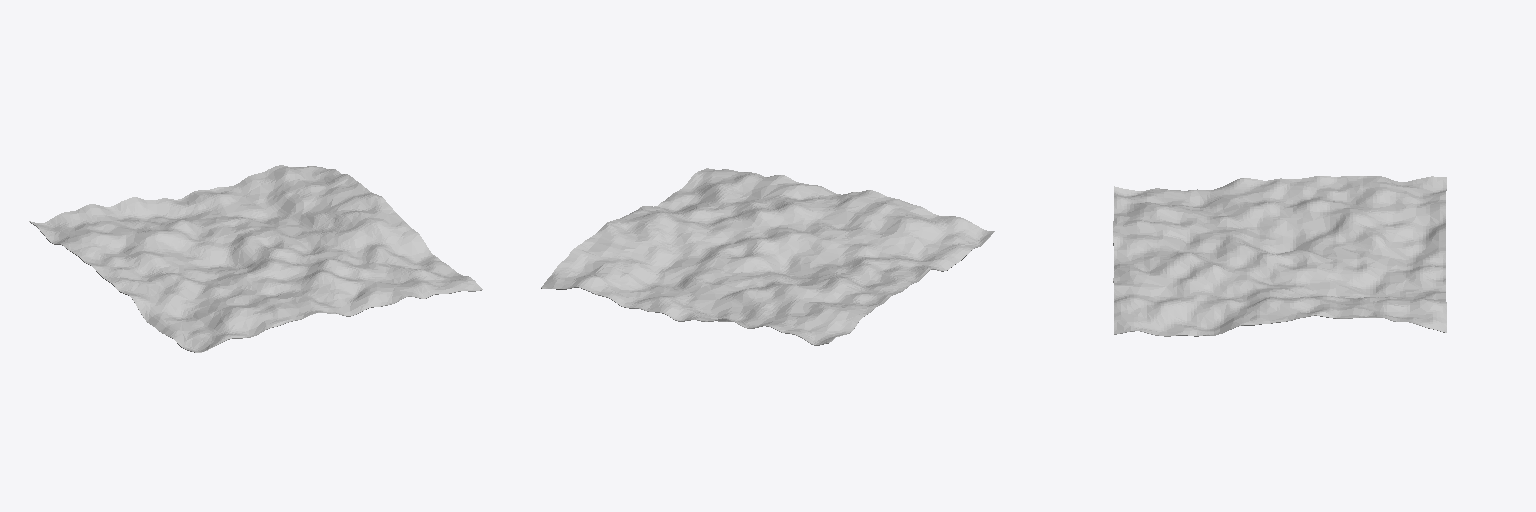
Rendered from meshaTeren.obj.
3 views of the same model, side by side, from view 1: azimuth 30°, elevation 25°; view 2: azimuth 150°, elevation 25°; view 3: azimuth 270°, elevation 25° (orthographic).
Visible parts, largest first — view 1: Plane01; view 2: Plane01; view 3: Plane01.
Boxes of the visible parts, <box> form: Plane01: <box>29,165,482,352</box>; Plane01: <box>541,168,994,345</box>; Plane01: <box>1113,176,1446,336</box>.
Size of the model in its own units: 592 by 47.26 by 592.